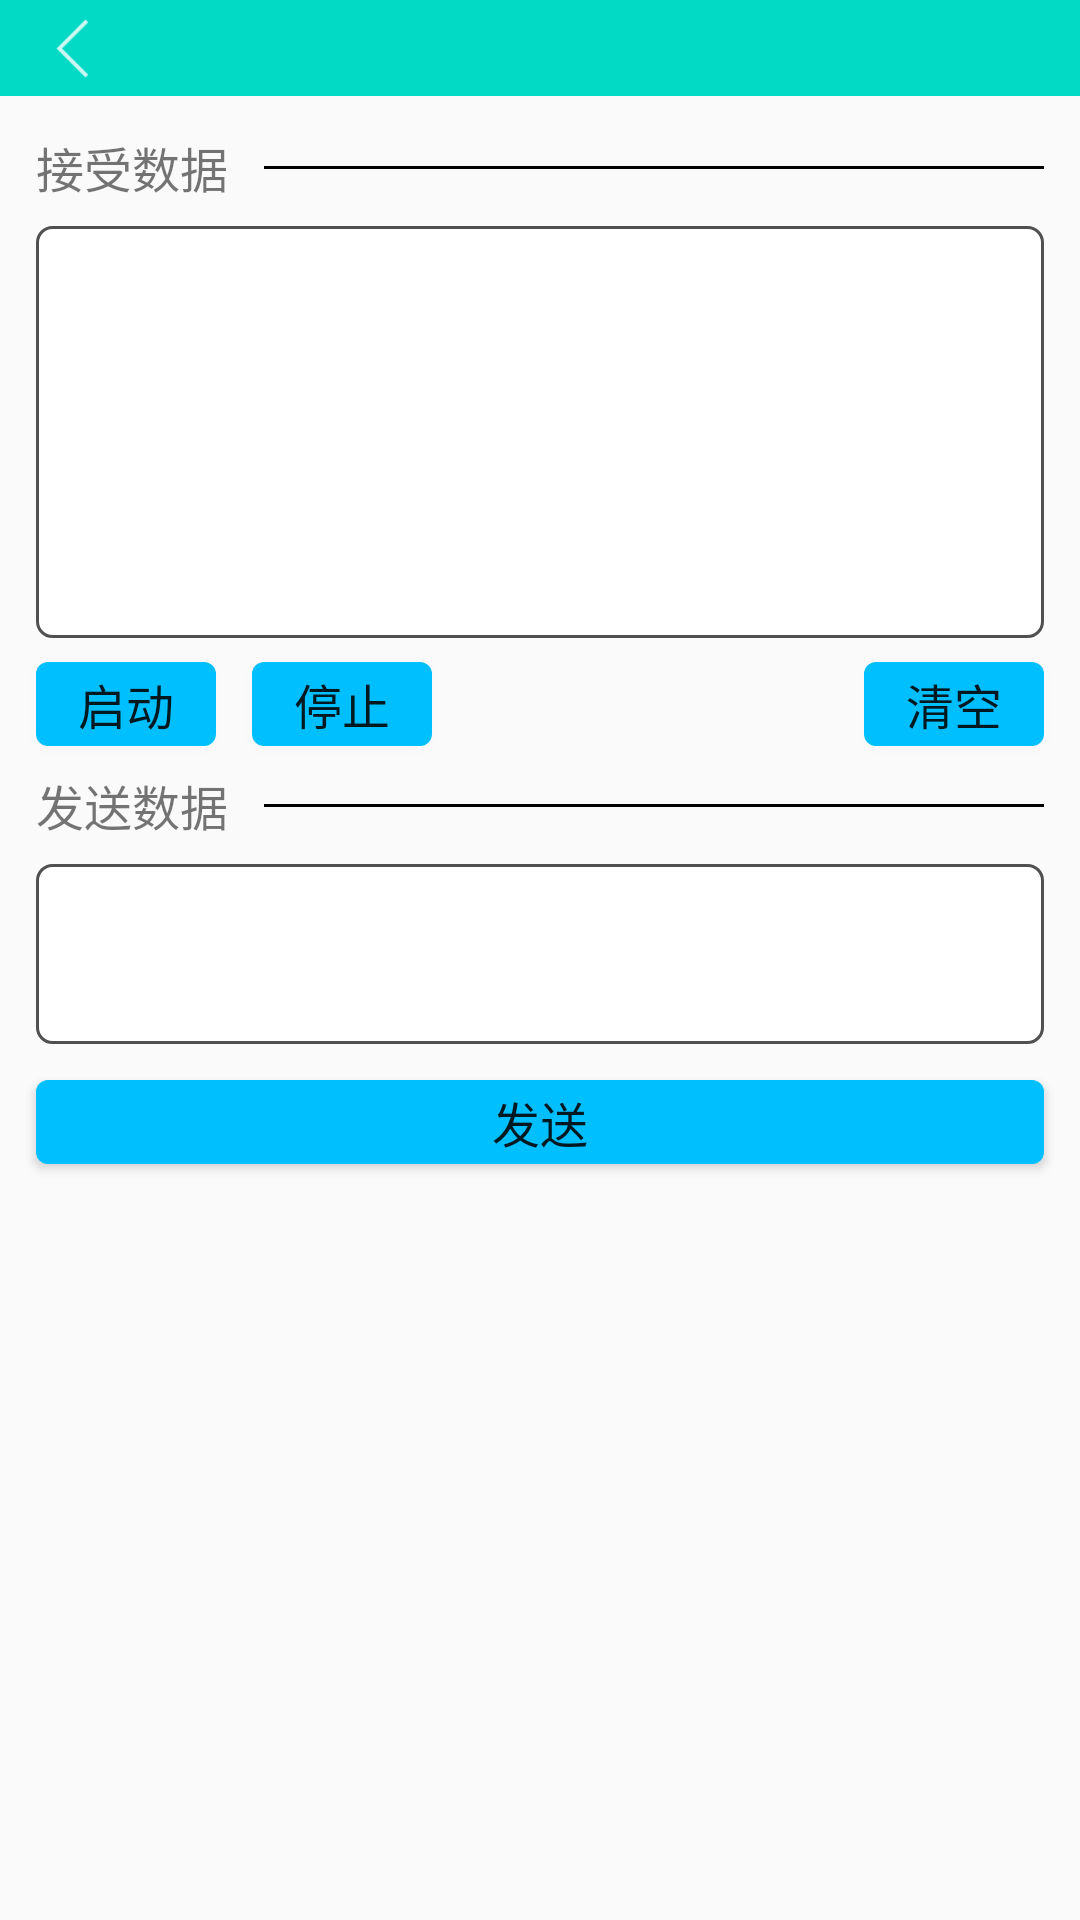

Icon bounding boxes for this 1080 × 1920 phone screenshot, format bbox=(x1, y1, x2, y2):
back: bbox=(56, 19, 88, 78)
